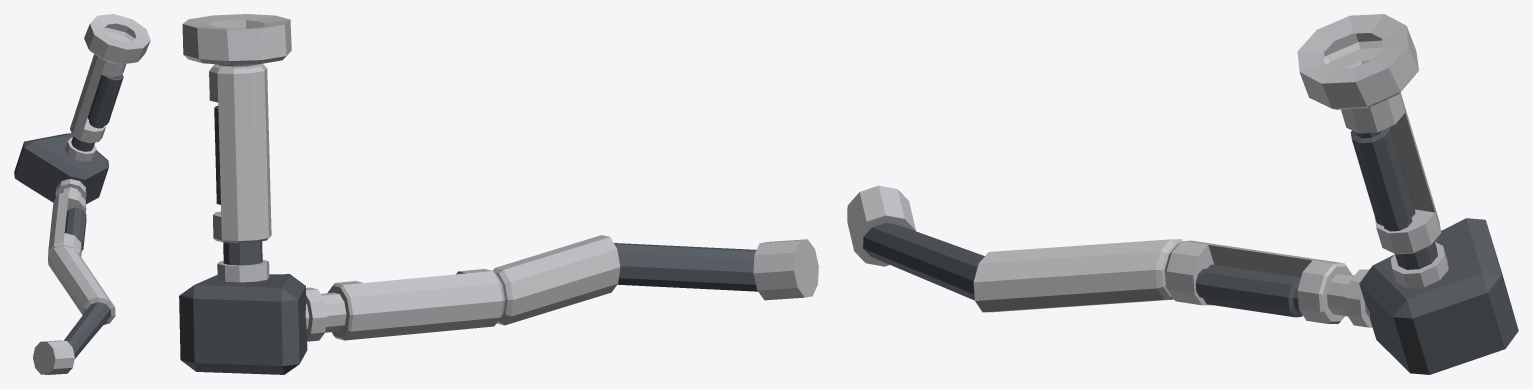
File: Fighter_03_Leg_Frame_Left.fbx
3 views of the same model, side by side, from view 1: azimuth 30°, elevation 25°; view 2: azimuth 150°, elevation 25°; view 3: azimuth 270°, elevation 25° (orthographic). The views are drawn at different scales.
Parts seen in each view (by area): view 1: Fighter_03_Leg_Frame_Left; view 2: Fighter_03_Leg_Frame_Left; view 3: Fighter_03_Leg_Frame_Left.
Boxes of the visible parts, box(x1,y1,x2,y2) form: Fighter_03_Leg_Frame_Left: box(14, 14, 150, 374); Fighter_03_Leg_Frame_Left: box(179, 14, 818, 374); Fighter_03_Leg_Frame_Left: box(847, 14, 1518, 374).
Bounding box in the file's own units: 155 × 135 × 205.
Materials: 1 (1 with a texture image).
